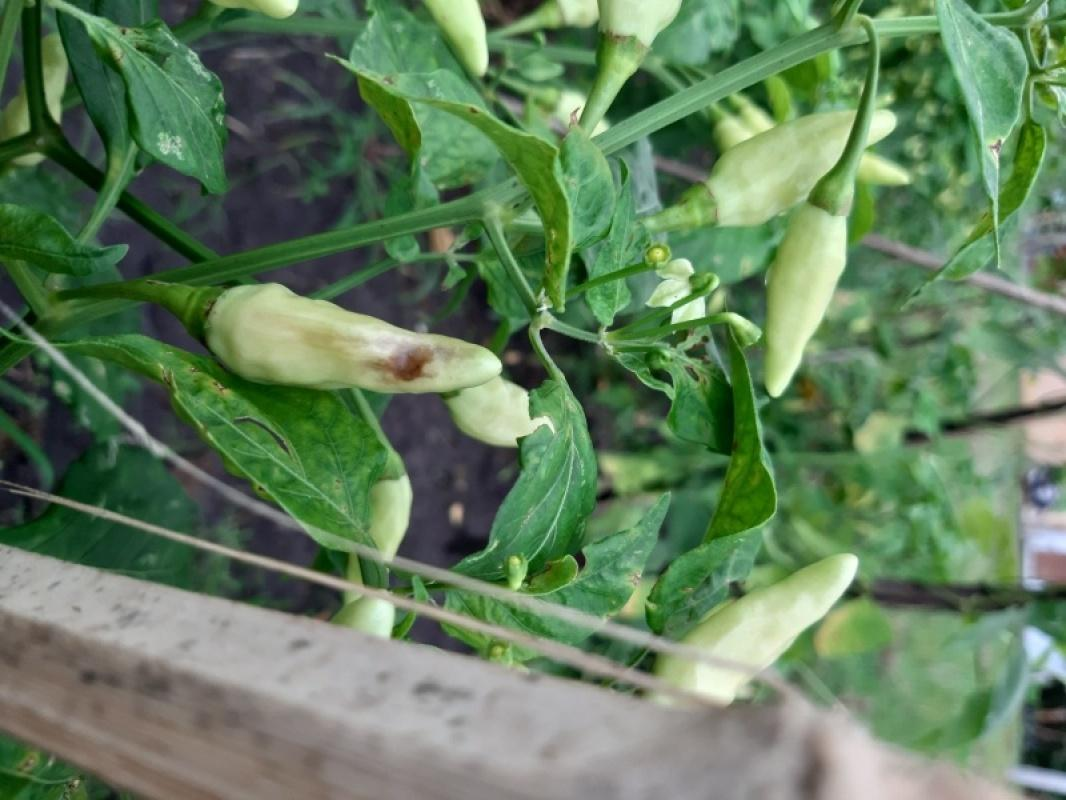antraknosa: (214, 289, 515, 404)
cabai_normal: (647, 551, 860, 708), (707, 108, 896, 228), (760, 198, 850, 401)
